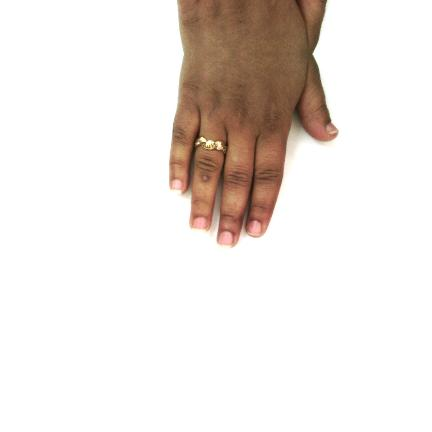Nail: (217, 230, 234, 249), (192, 216, 207, 233), (247, 220, 262, 236), (170, 179, 183, 196), (326, 122, 340, 135)
